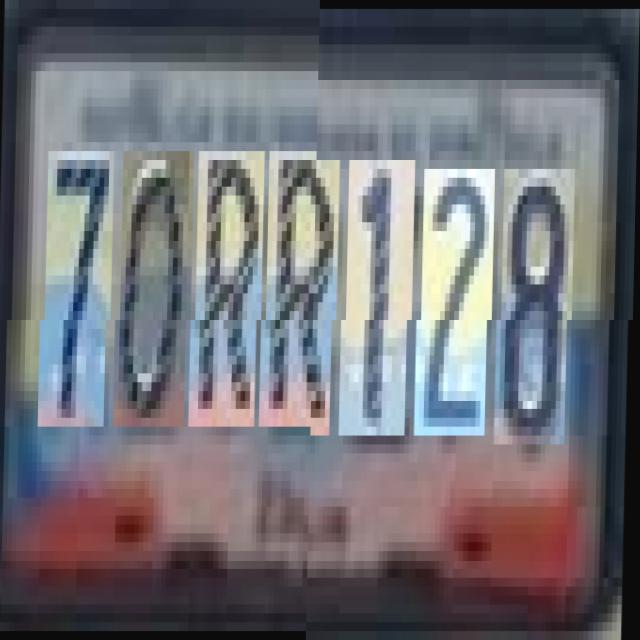1: (346, 160, 416, 436)
2: (420, 168, 496, 436)
7: (44, 160, 115, 436)
8: (500, 168, 576, 444)
O: (120, 160, 195, 436)
R: (266, 160, 340, 436), (195, 160, 266, 436)
